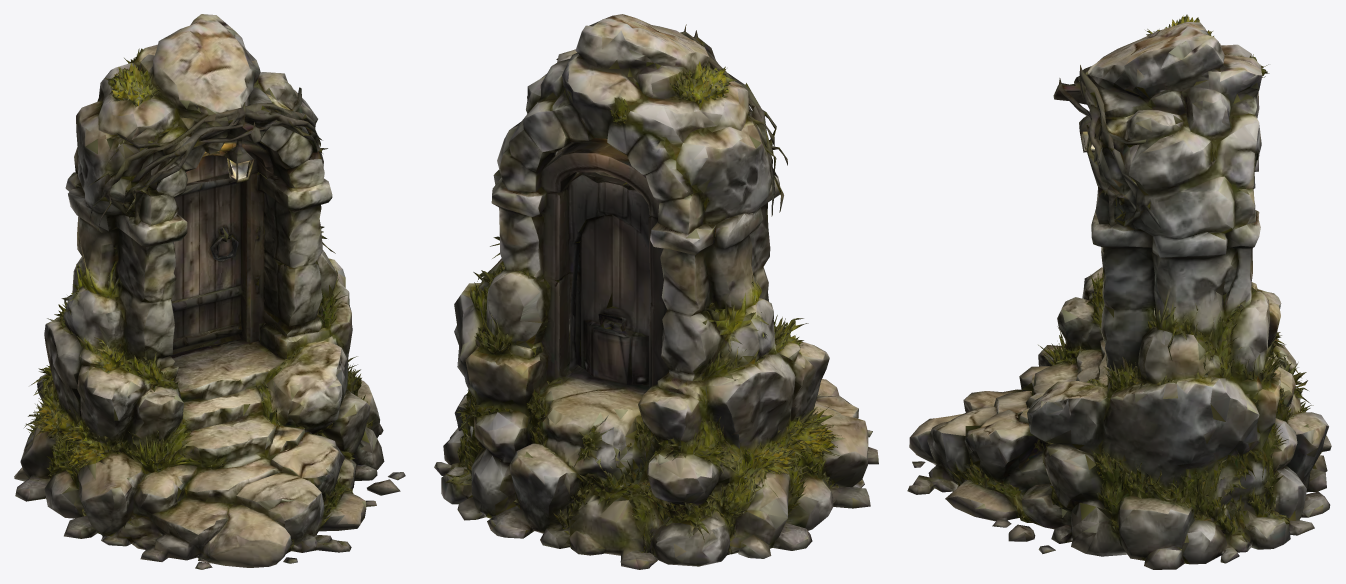
Rendered from Stone_Portal.glb.
3 views of the same model, side by side, from view 1: azimuth 30°, elevation 25°; view 2: azimuth 150°, elevation 25°; view 3: azimuth 270°, elevation 25° (orthographic). The views are drawn at different scales.
Parts seen in each view (by area): view 1: Stone_Portal; view 2: Stone_Portal; view 3: Stone_Portal.
Boxes of the visible parts, bbox=[...] form: Stone_Portal: bbox=[14, 14, 405, 569]; Stone_Portal: bbox=[434, 14, 878, 569]; Stone_Portal: bbox=[907, 14, 1331, 569].
Bounding box in the file's own units: 1.68 × 2 × 1.69.
1 material, 1 textured.
